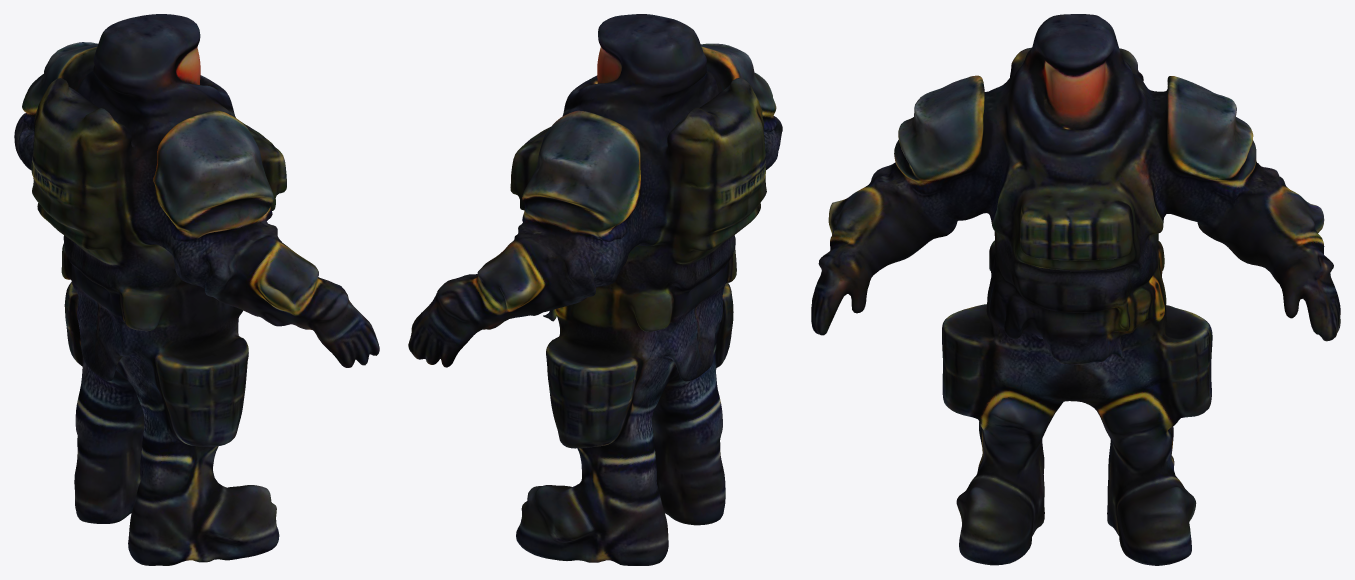
Rendered from 922dec435cec_Create_a_low_poly_o.fbx.
The picture shows the model from 3 angles, left to right: view 1: azimuth 30°, elevation 25°; view 2: azimuth 150°, elevation 25°; view 3: azimuth 270°, elevation 25°; orthographic projection.
Parts seen in each view (by area): view 1: high_poly; view 2: high_poly; view 3: high_poly.
Boxes of the visible parts, x1=… form: high_poly: x1=14, y1=14, x2=379, y2=565; high_poly: x1=408, y1=14, x2=782, y2=565; high_poly: x1=811, y1=14, x2=1340, y2=565.
Bounding box in the file's own units: 45.63 × 100 × 94.41.
